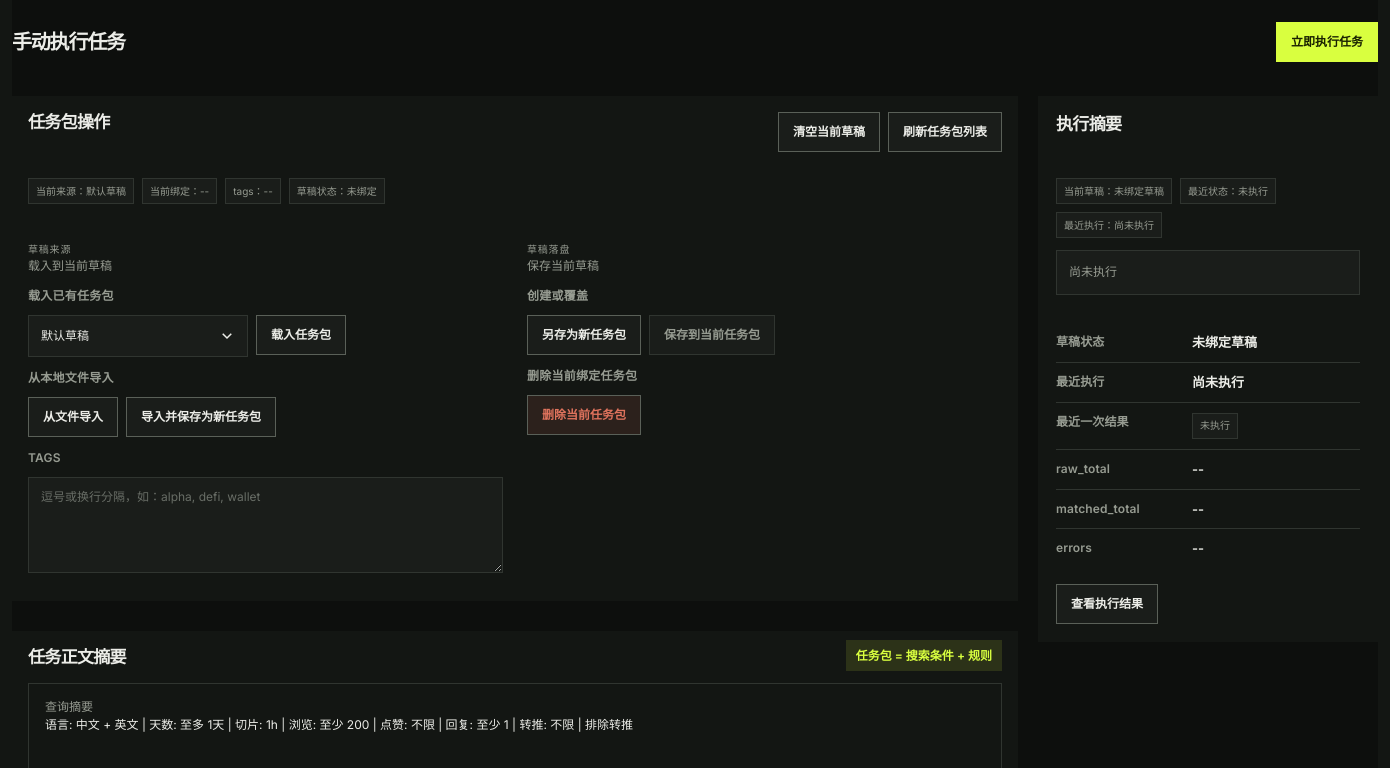
Test case: ManualSearchPage › shows dirty draft state after editing the imported task pack
Step 1. Select "Alpha Watch" in the dropdown named "manual-pack-select" → (138, 336), box [28,315,248,357]
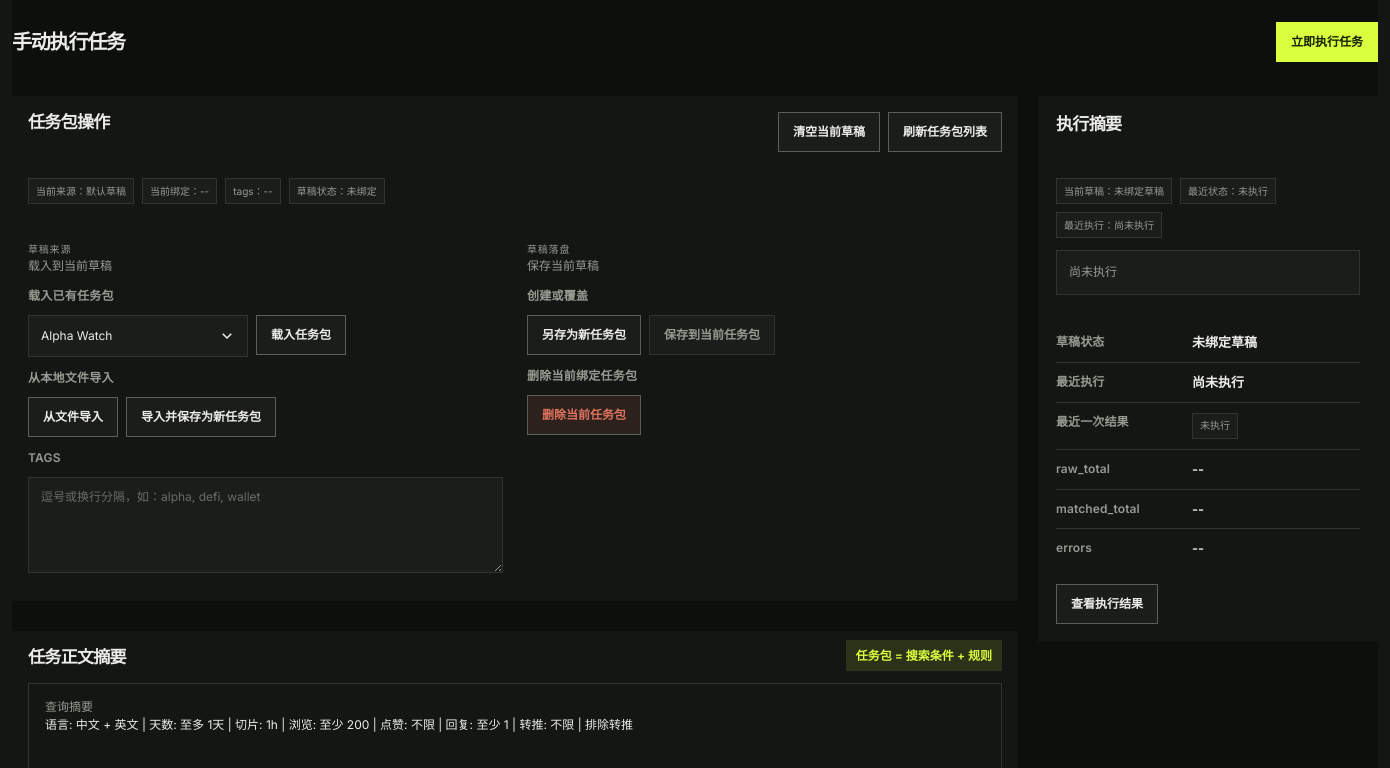
Step 2. Click the button with test id "manual-load-pack" → (301, 335), box [256,315,346,355]
(page scrolled)
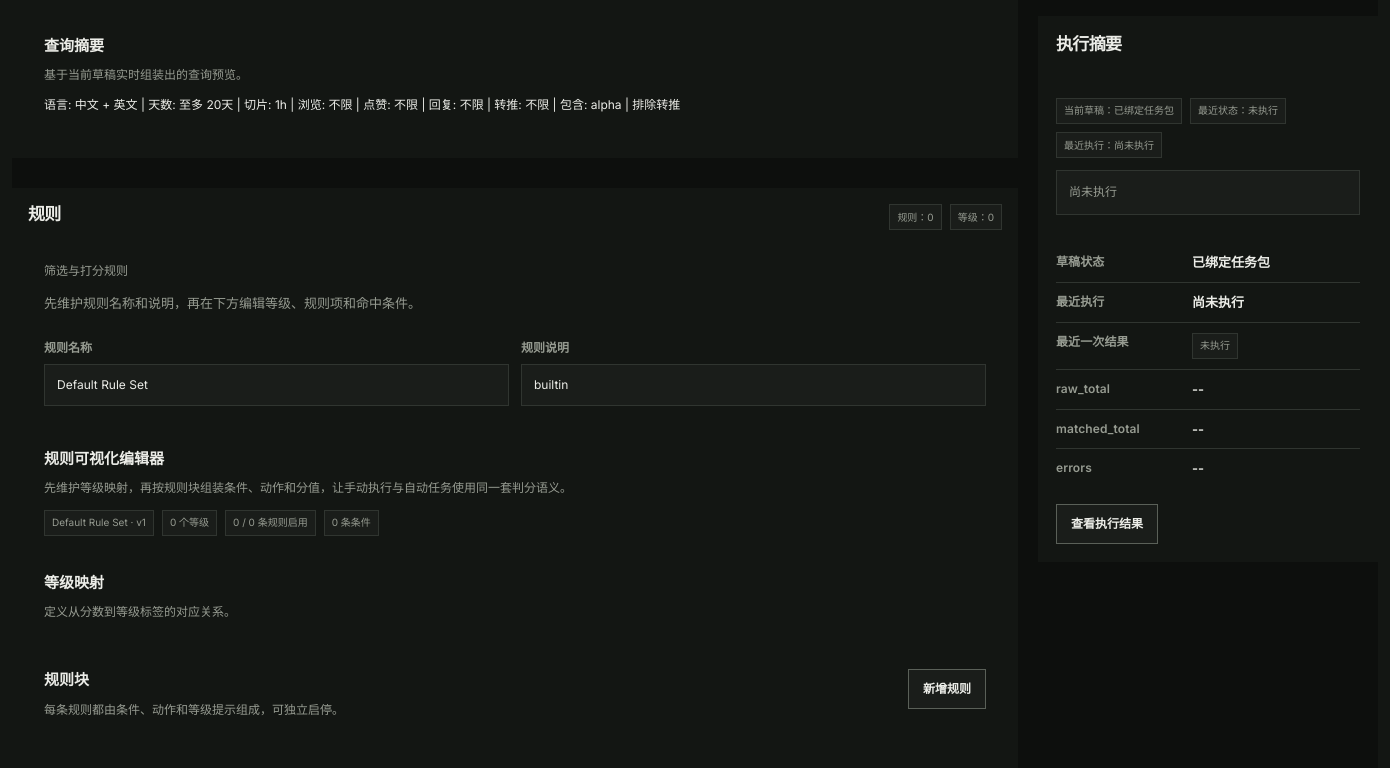
Step 3. Replace the text in the field showing "Default Rule Set" with "Default Rule Set v2" → (276, 385), box [44,364,509,406]
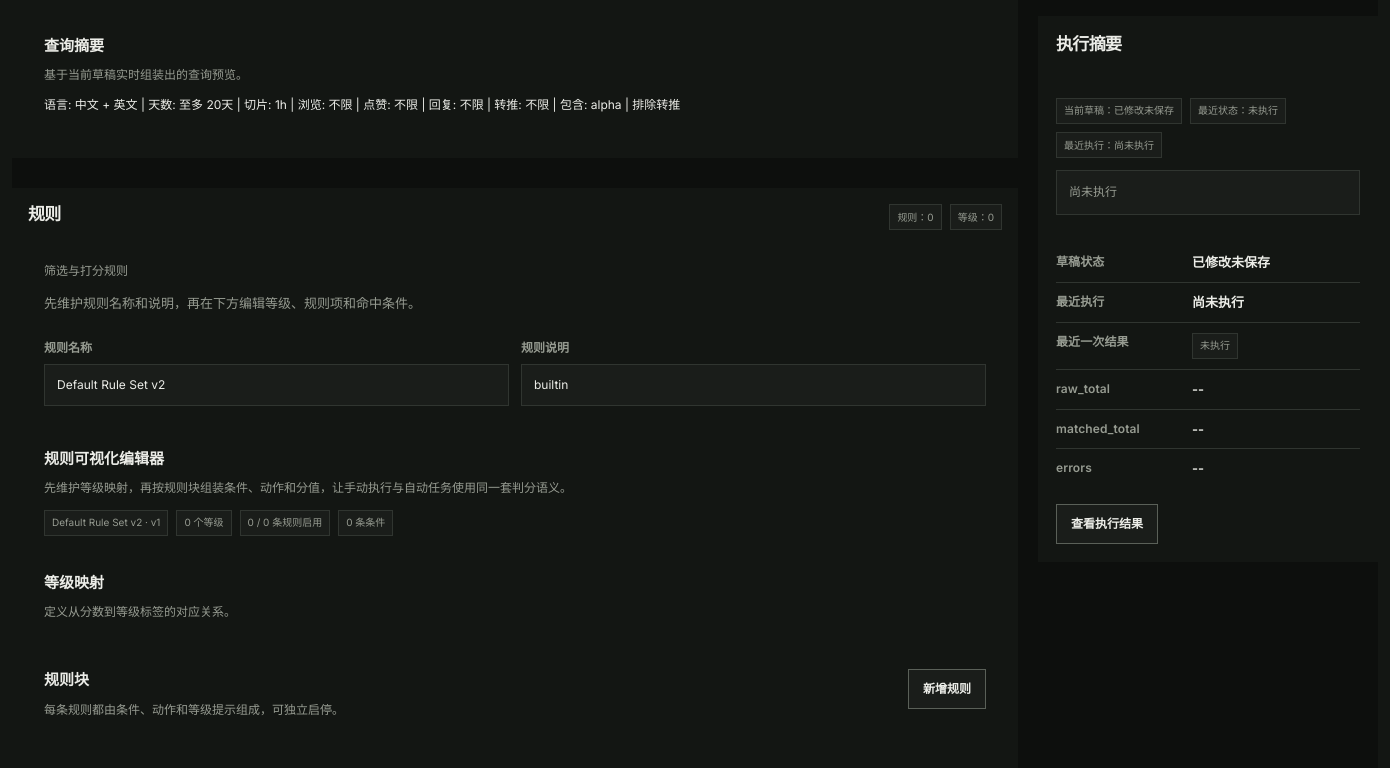
Now the text "已修改未保存" is shown, box [1192,254,1270,270]
